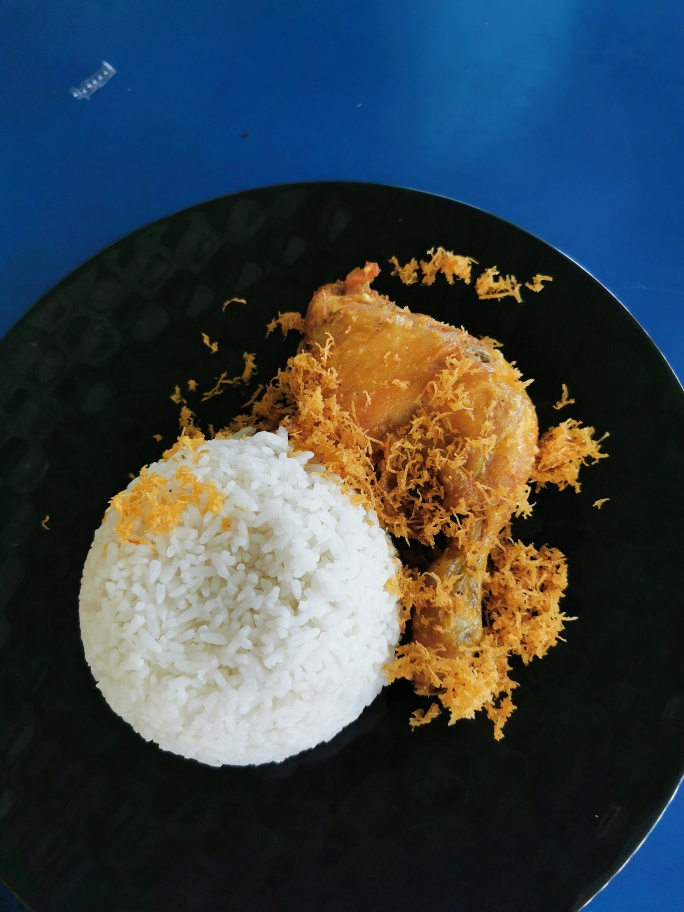ayam goreng: (275, 255, 579, 739)
nasi putih: (60, 426, 412, 777)
